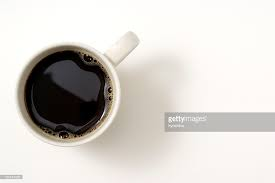cup: (15, 30, 151, 151)
